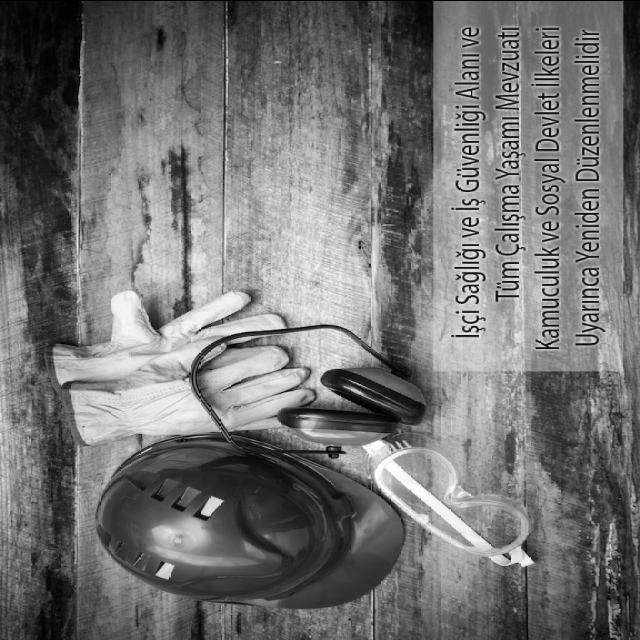construction helmet: (98, 433, 407, 610)
